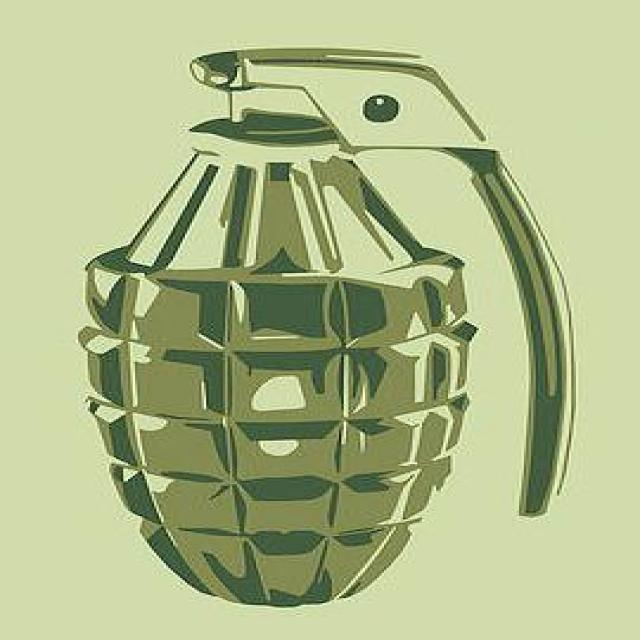grenade: (82, 46, 576, 609)
